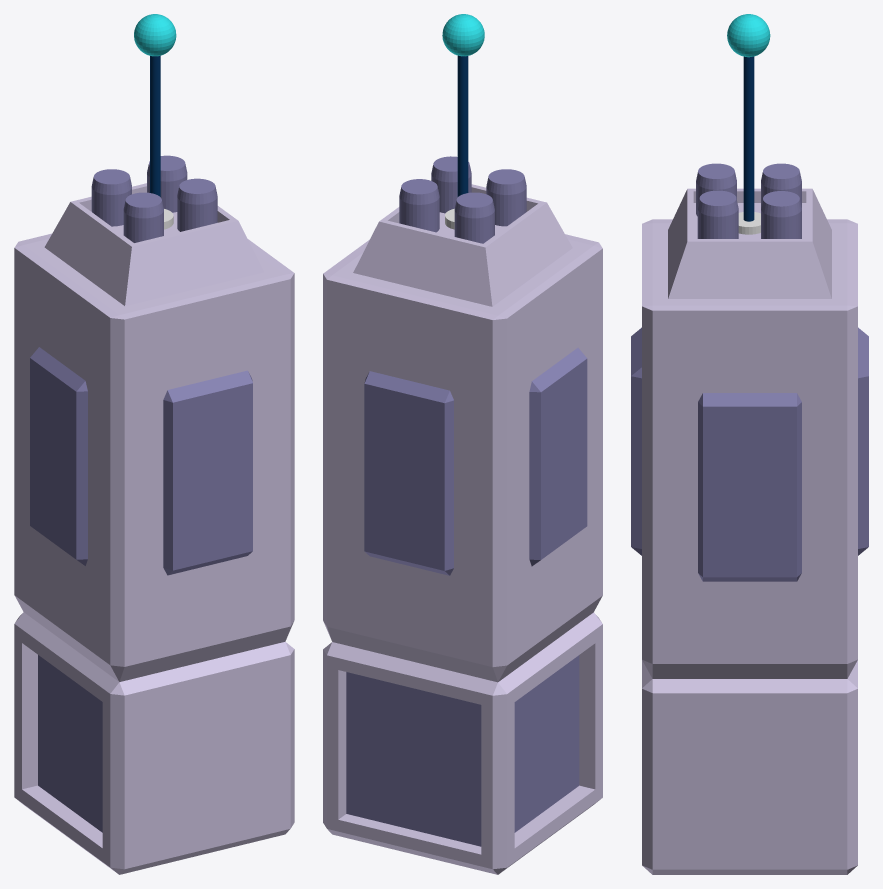
The model's file is Building14.fbx.
The picture shows the model from 3 angles, left to right: view 1: azimuth 30°, elevation 25°; view 2: azimuth 150°, elevation 25°; view 3: azimuth 270°, elevation 25°; orthographic projection.
Parts seen in each view (by area): view 1: Cube.002, Cube, Cube.003, Cube.004, Cube.001, Cylinder.006, Cylinder.001, Cylinder.002, Cylinder.005, Sphere, Cylinder.003; view 2: Cube.002, Cube.001, Cube, Cube.003, Cube.004, Cylinder.003, Cylinder.001, Cylinder.002, Cylinder.005, Sphere, Cylinder.006; view 3: Cube.002, Cube, Cube.004, Cube.003, Cylinder.005, Cylinder.006, Cylinder.003, Sphere, Cylinder.002, Cylinder.001.
Boxes of the visible parts, <box> form: Cube.002: <box>14,183,294,681</box>; Cube: <box>14,612,294,874</box>; Cube.003: <box>163,370,252,575</box>; Cube.004: <box>30,347,87,565</box>; Cube.001: <box>38,655,102,832</box>; Cylinder.006: <box>177,178,217,231</box>; Cylinder.001: <box>91,169,131,226</box>; Cylinder.002: <box>123,192,163,242</box>; Cylinder.005: <box>150,55,160,196</box>; Sphere: <box>134,14,176,56</box>; Cylinder.003: <box>147,155,187,212</box>; Cube.002: <box>323,184,602,682</box>; Cube.001: <box>346,655,579,846</box>; Cube: <box>323,612,602,874</box>; Cube.003: <box>364,371,453,575</box>; Cube.004: <box>529,347,587,566</box>; Cylinder.003: <box>399,179,439,232</box>; Cylinder.001: <box>454,192,494,243</box>; Cylinder.002: <box>486,169,526,226</box>; Cylinder.005: <box>457,55,468,196</box>; Sphere: <box>442,14,484,56</box>; Cylinder.006: <box>431,156,471,213</box>; Cube.002: <box>642,188,857,678</box>; Cube: <box>642,660,857,874</box>; Cube.004: <box>698,393,801,581</box>; Cube.003: <box>631,327,868,555</box>; Cylinder.005: <box>743,56,754,221</box>; Cylinder.006: <box>697,190,738,238</box>; Cylinder.003: <box>761,191,801,238</box>; Sphere: <box>727,14,770,57</box>; Cylinder.002: <box>696,163,736,216</box>; Cylinder.001: <box>761,163,801,207</box>.
Size of the model in its own units: 220 by 834 by 220.
